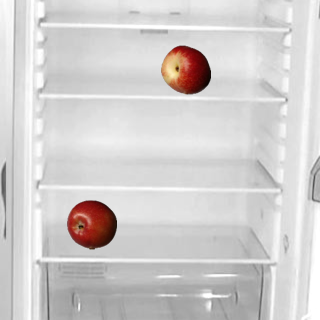Apple Braeburn: (66, 199, 116, 249)
Nectarine: (160, 44, 210, 94)
